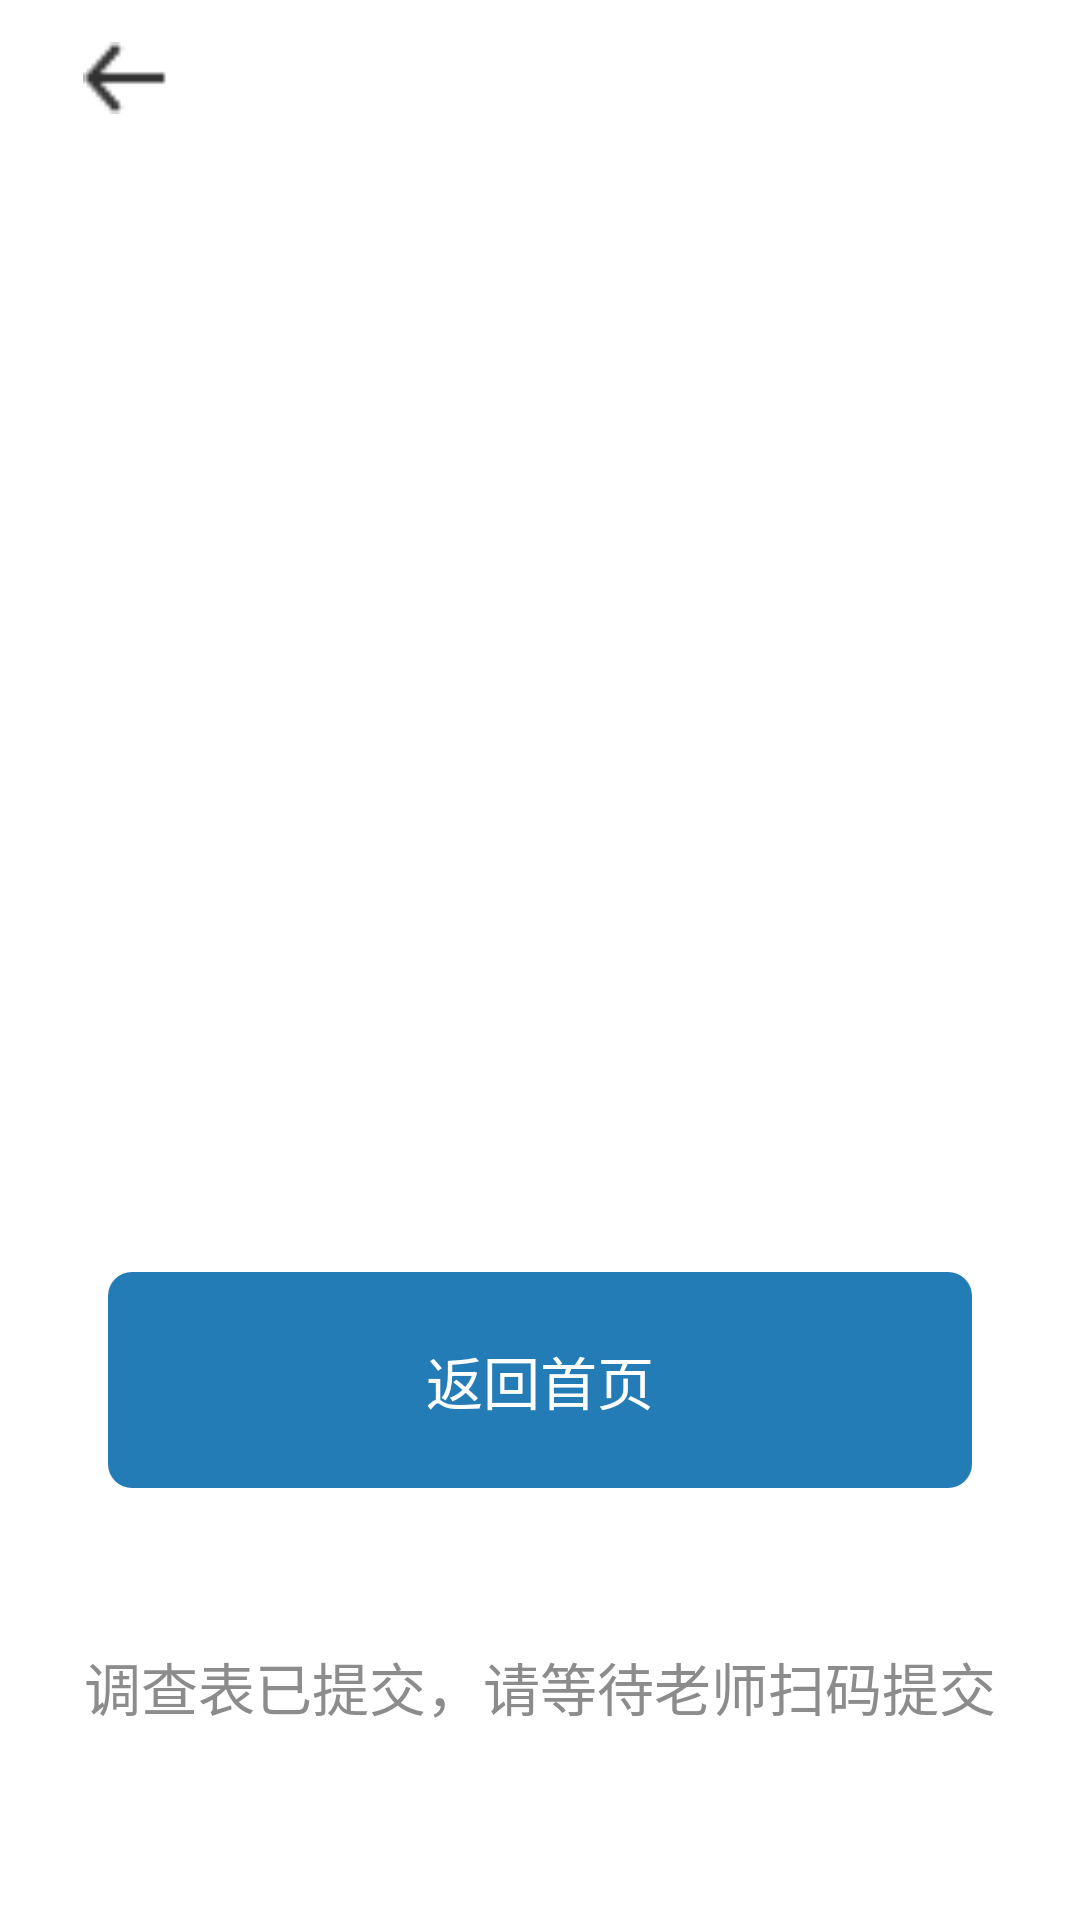

Screen size 1080×1920. Icon name, then its center in pixels as point (x, y):
back: point (124, 78)
